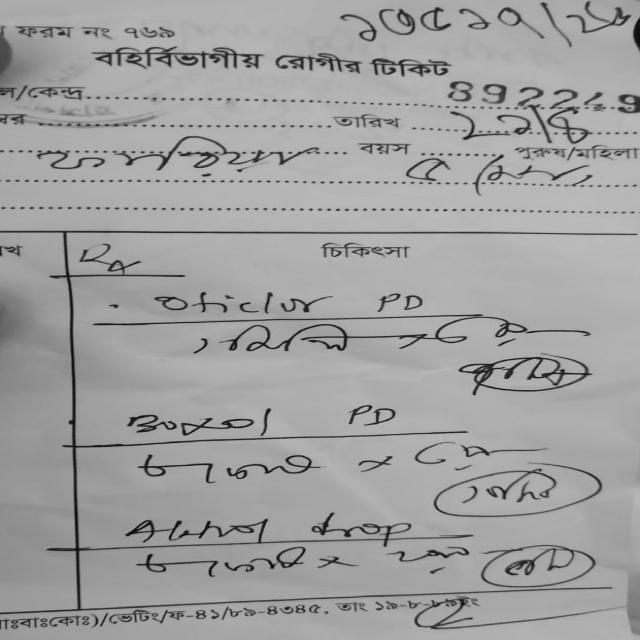Alatrol: (120, 512, 291, 543)
Boxol: (118, 406, 294, 445)
Oticlor: (155, 291, 342, 317)
